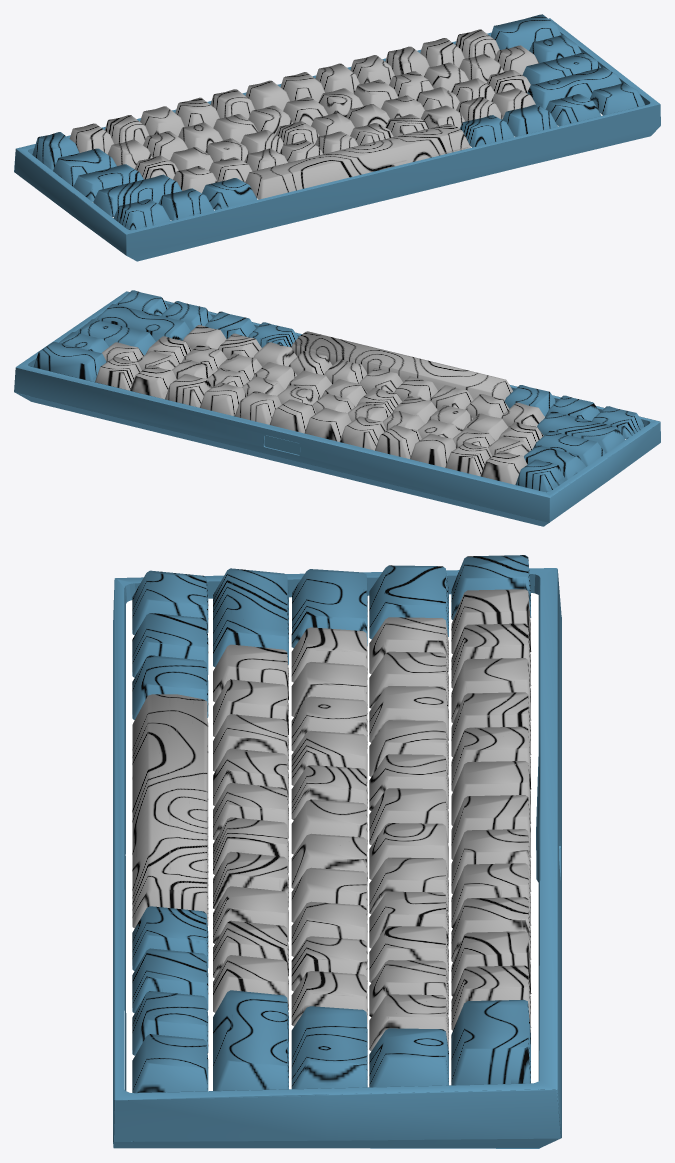
File: Keyboard.glb
The picture shows the model from 3 angles, top to bottom: view 1: azimuth 30°, elevation 25°; view 2: azimuth 150°, elevation 25°; view 3: azimuth 270°, elevation 25°; orthographic projection. The views are drawn at different scales.
Parts seen in each view (by area): view 1: Cube.003_12; view 2: Cube.003_12; view 3: Cube.003_12.
Part boxes in pixels (<box>): Cube.003_12: <box>14,14,660,261</box>; Cube.003_12: <box>14,290,660,526</box>; Cube.003_12: <box>113,555,561,1148</box>.
Size of the model in its own units: 0.5521 by 0.0495 by 0.2002.
5 materials, 2 textured.
